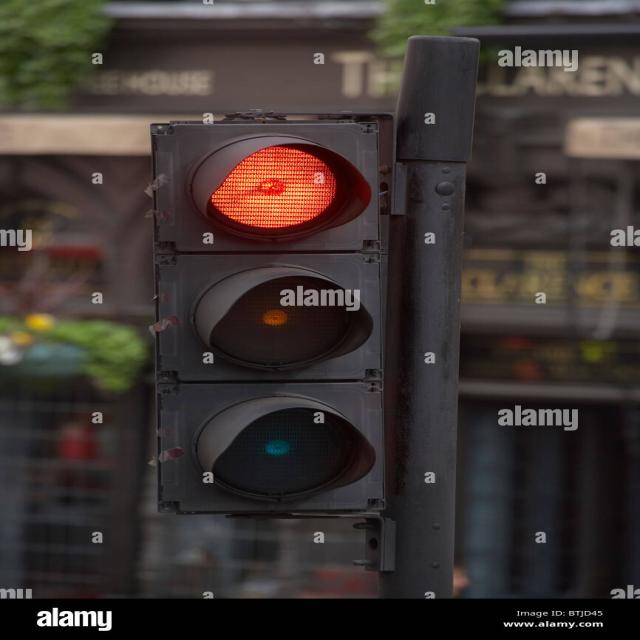red: (173, 129, 358, 262)
